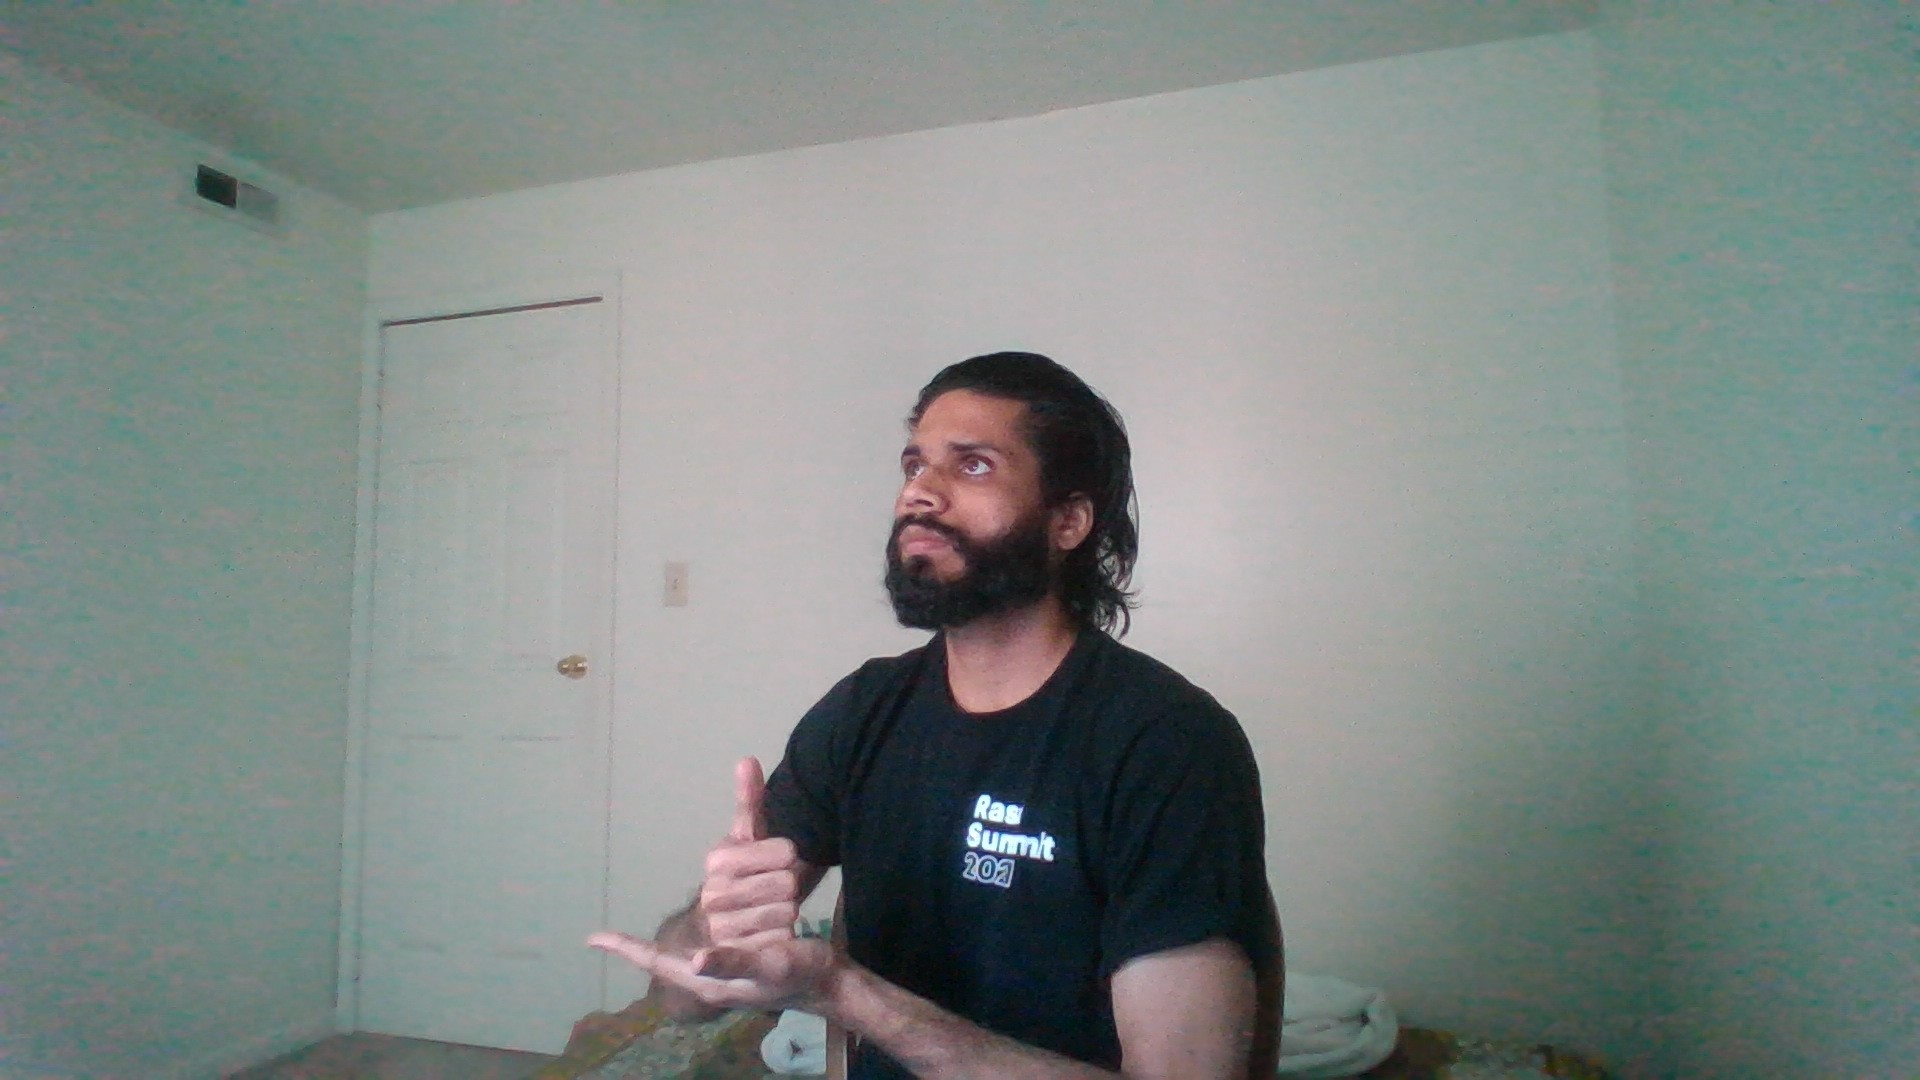Help: (587, 732, 865, 1031)
